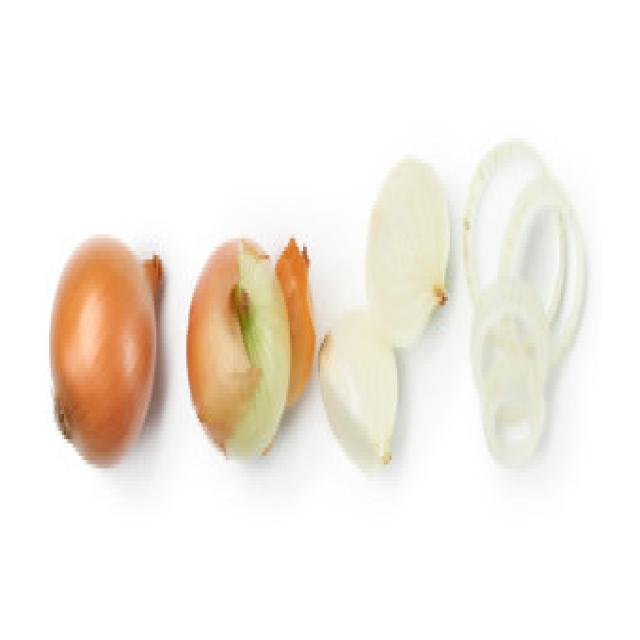onion: (458, 124, 591, 494), (32, 207, 163, 493), (181, 207, 312, 486), (323, 186, 441, 475)
